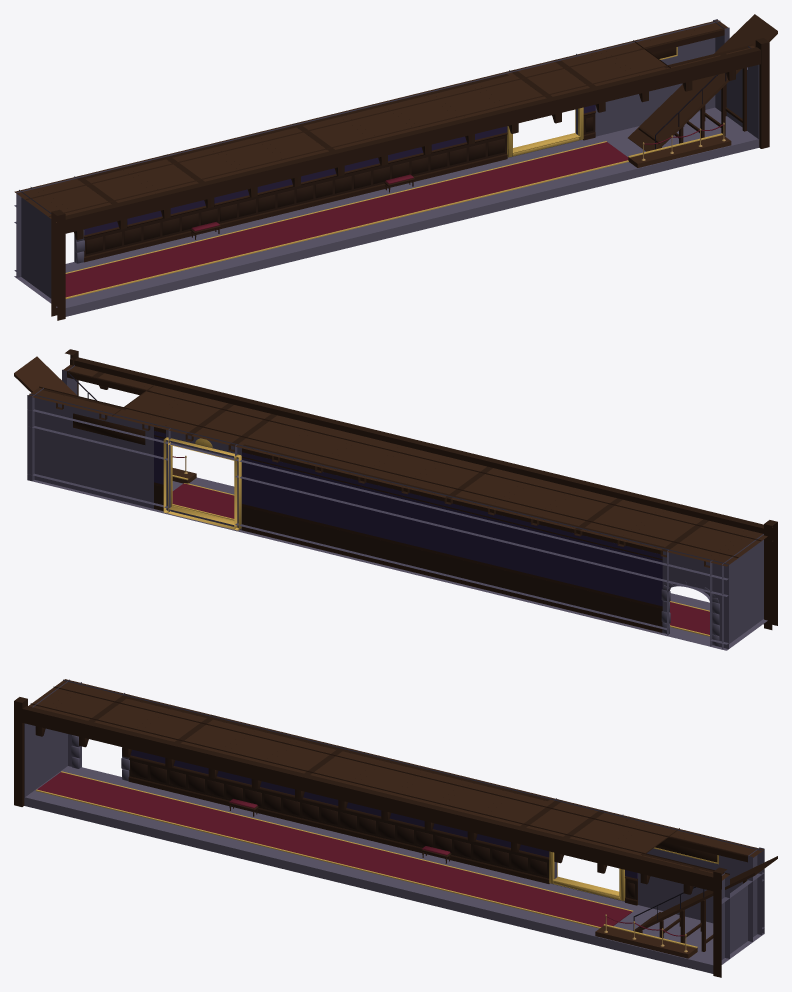
Rendered from basement.glb.
The picture shows the model from 3 angles, top to bottom: view 1: azimuth 30°, elevation 25°; view 2: azimuth 150°, elevation 25°; view 3: azimuth 330°, elevation 25°; orthographic projection.
Parts seen in each view (by area): view 1: Base_main; view 2: Base_main; view 3: Base_main.
Part boxes in pixels (bbox=[...]): Base_main: bbox=[14, 14, 777, 320]; Base_main: bbox=[14, 349, 777, 650]; Base_main: bbox=[14, 679, 777, 977].
Bounding box in the file's own units: 43.85 × 6 × 4.97.
